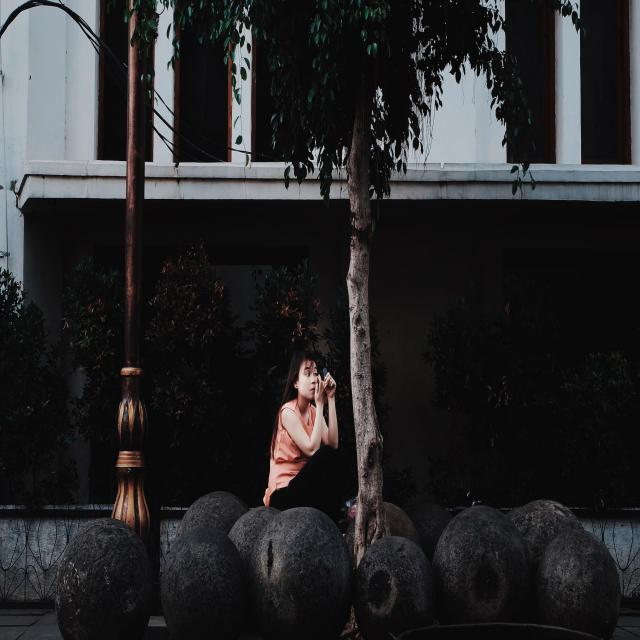adult: (268, 349, 338, 508)
